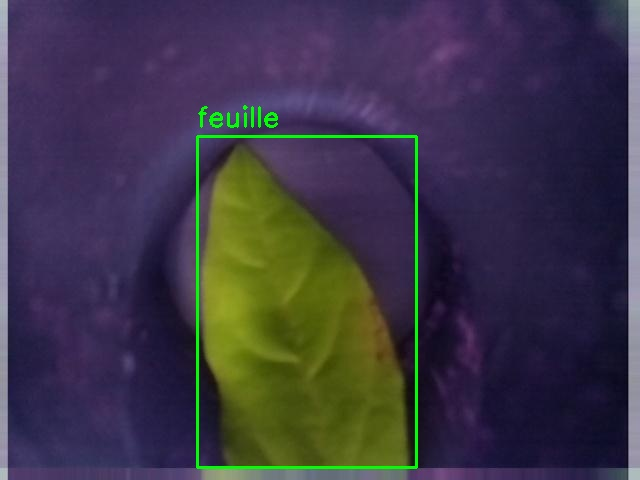feuille: (197, 136, 416, 467)
